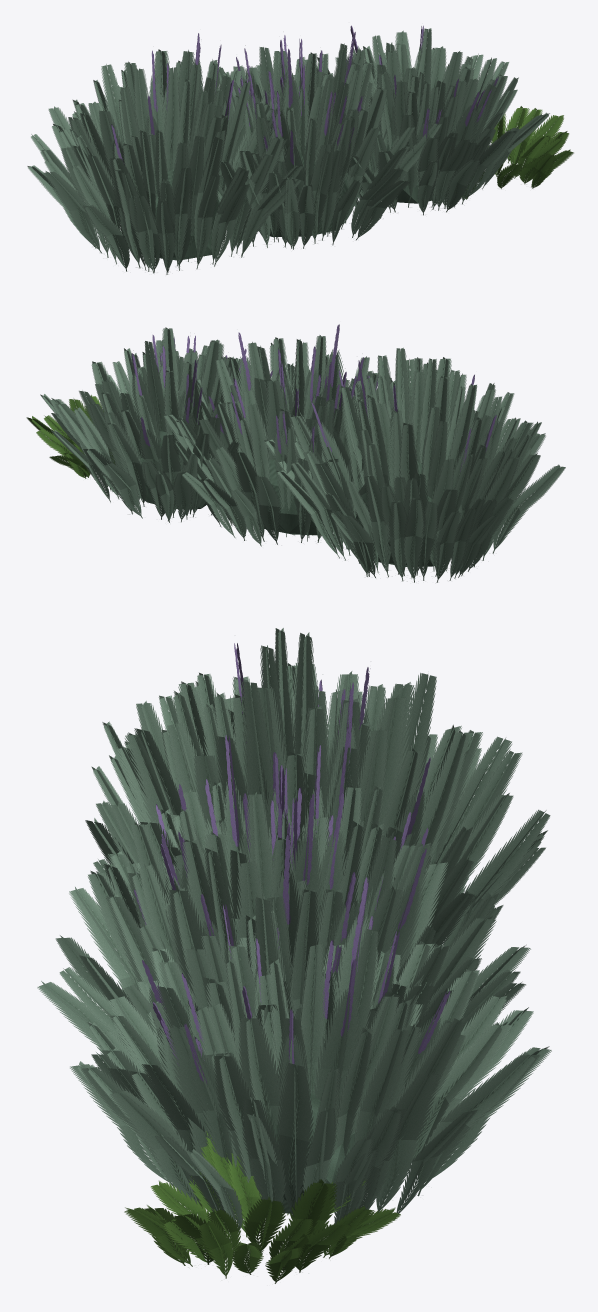
Rendered from arbustos_lavanda.glb.
3 views of the same model, one above another, from view 1: azimuth 30°, elevation 25°; view 2: azimuth 150°, elevation 25°; view 3: azimuth 270°, elevation 25° (orthographic). The views are drawn at different scales.
Parts seen in each view (by area): view 1: Macizo_Lavandas; view 2: Macizo_Lavandas; view 3: Macizo_Lavandas.
Boxes of the visible parts, <box> form: Macizo_Lavandas: <box>27,25,573,274</box>; Macizo_Lavandas: <box>26,324,565,582</box>; Macizo_Lavandas: <box>37,628,551,1283</box>.
Bounding box in the file's own units: 2.06 × 0.7226 × 1.07.
4 materials, 4 textured.
